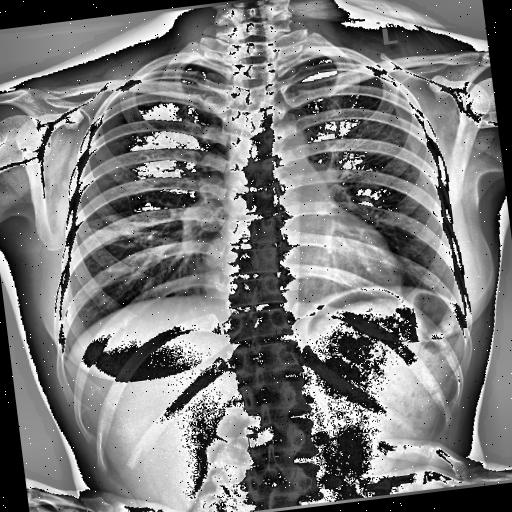13- Pulmonary fibrosis: (84, 218, 157, 254), (82, 222, 140, 244)
7- Lung Opacity: (88, 222, 144, 249)
